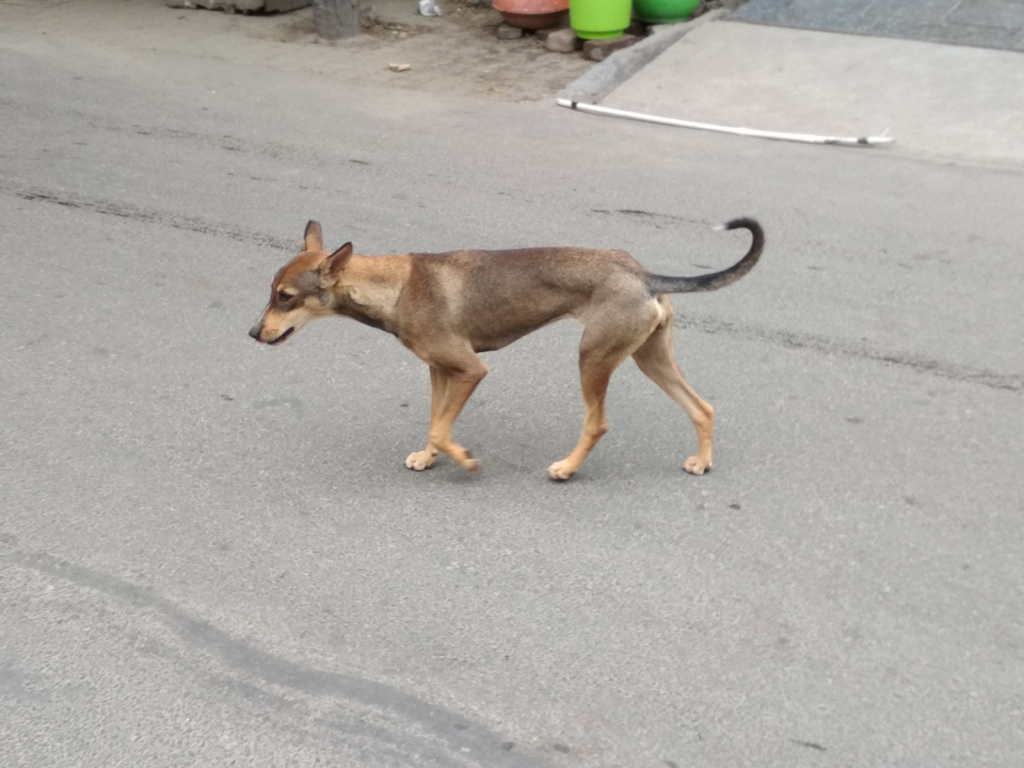dog: (249, 215, 765, 479)
